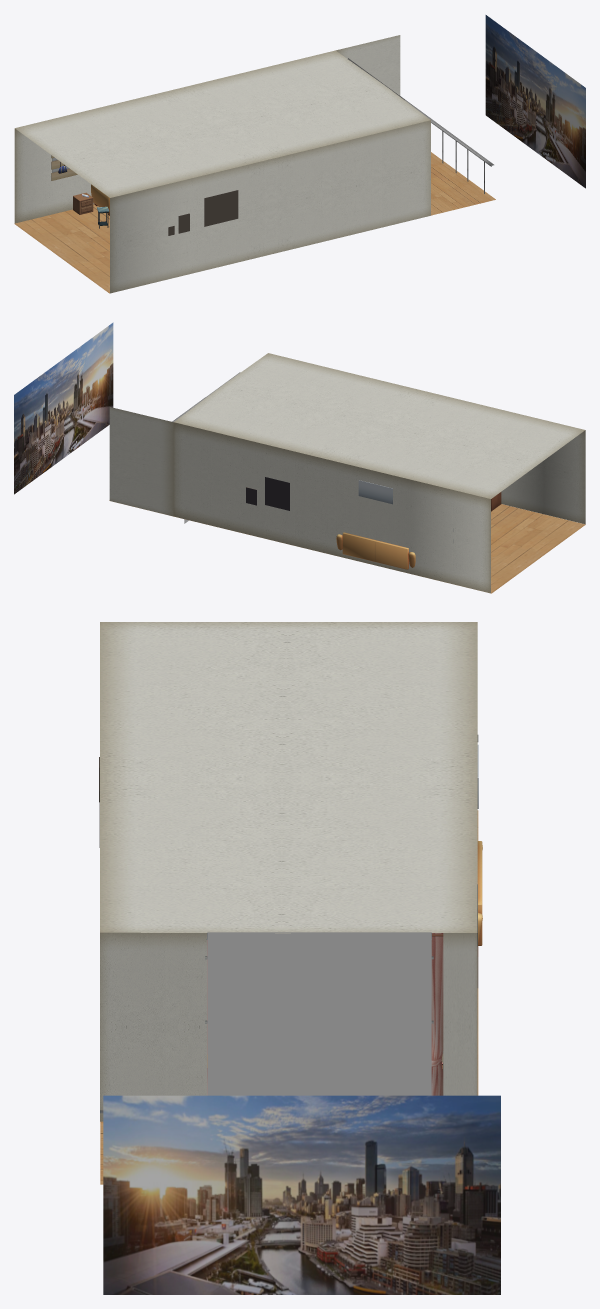
Rendered from ShenMiRenJia_01.FBX.
The picture shows the model from 3 angles, top to bottom: view 1: azimuth 30°, elevation 25°; view 2: azimuth 150°, elevation 25°; view 3: azimuth 270°, elevation 25°; orthographic projection. The views are drawn at different scales.
Visible parts, largest first — view 1: TouKuiZheJia_huanjing_05, Object001, Plane001, ShenMiRenJia_dimian_01, TouKuiZheJia_bihua_03, ShenMiRenJia_xiaoguizi_03; view 2: TouKuiZheJia_huanjing_05, Object001, Plane001, ShenMiRenJia_dimian_01, Object099, ShenMiRenJia_bihua_01, TouKuiZheJia_kongtiao_01; view 3: Object001, Plane001, Plane002, TouKuiZheJia_huanjing_05.
Part boxes in pixels (x1,y1,x2,y2): TouKuiZheJia_huanjing_05: [14, 35, 493, 293]; Object001: [15, 50, 430, 197]; Plane001: [485, 15, 585, 188]; ShenMiRenJia_dimian_01: [14, 152, 495, 293]; TouKuiZheJia_bihua_03: [204, 190, 238, 226]; ShenMiRenJia_xiaoguizi_03: [73, 192, 93, 214]; TouKuiZheJia_huanjing_05: [109, 398, 585, 593]; Object001: [174, 353, 584, 498]; Plane001: [14, 322, 113, 494]; ShenMiRenJia_dimian_01: [109, 500, 585, 593]; Object099: [336, 532, 415, 569]; ShenMiRenJia_bihua_01: [246, 477, 289, 510]; TouKuiZheJia_kongtiao_01: [358, 480, 392, 504]; Object001: [100, 622, 477, 933]; Plane001: [103, 1095, 500, 1294]; Plane002: [207, 932, 431, 1095]; TouKuiZheJia_huanjing_05: [100, 932, 477, 1121].
Bounding box in the file's own units: 8917 × 2008 × 3287.
